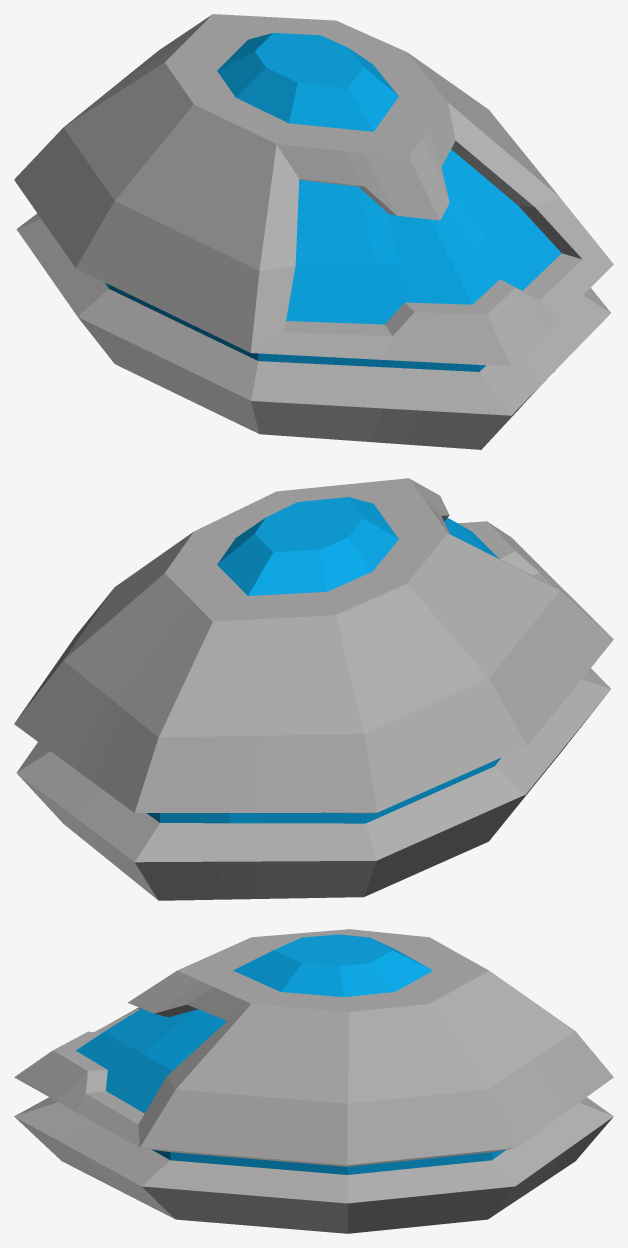
Rendered from Body_Default.fbx.
The picture shows the model from 3 angles, top to bottom: view 1: azimuth 30°, elevation 25°; view 2: azimuth 150°, elevation 25°; view 3: azimuth 270°, elevation 25°; orthographic projection. The views are drawn at different scales.
Parts seen in each view (by area): view 1: Body_Default; view 2: Body_Default; view 3: Body_Default.
Part boxes in pixels (x1,y1,x2,y2): Body_Default: [14, 14, 613, 449]; Body_Default: [14, 478, 613, 900]; Body_Default: [14, 929, 613, 1233].
Size of the model in its own units: 1.23 by 0.8298 by 1.77.
